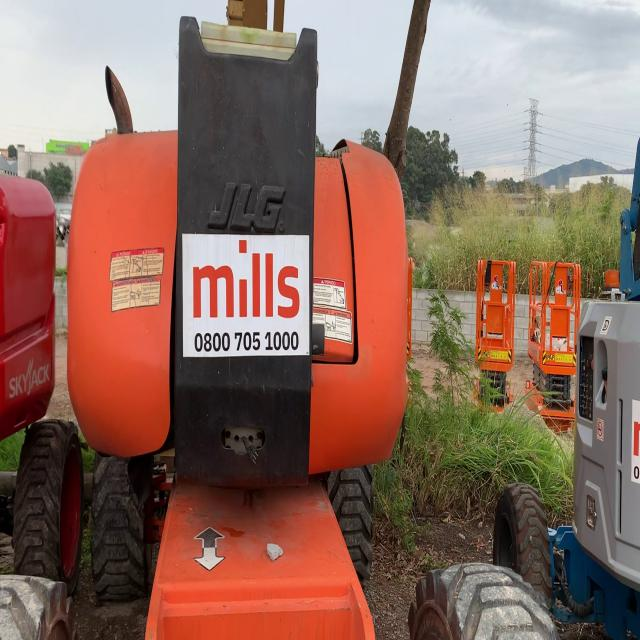Adesivos: (179, 232, 311, 362)
